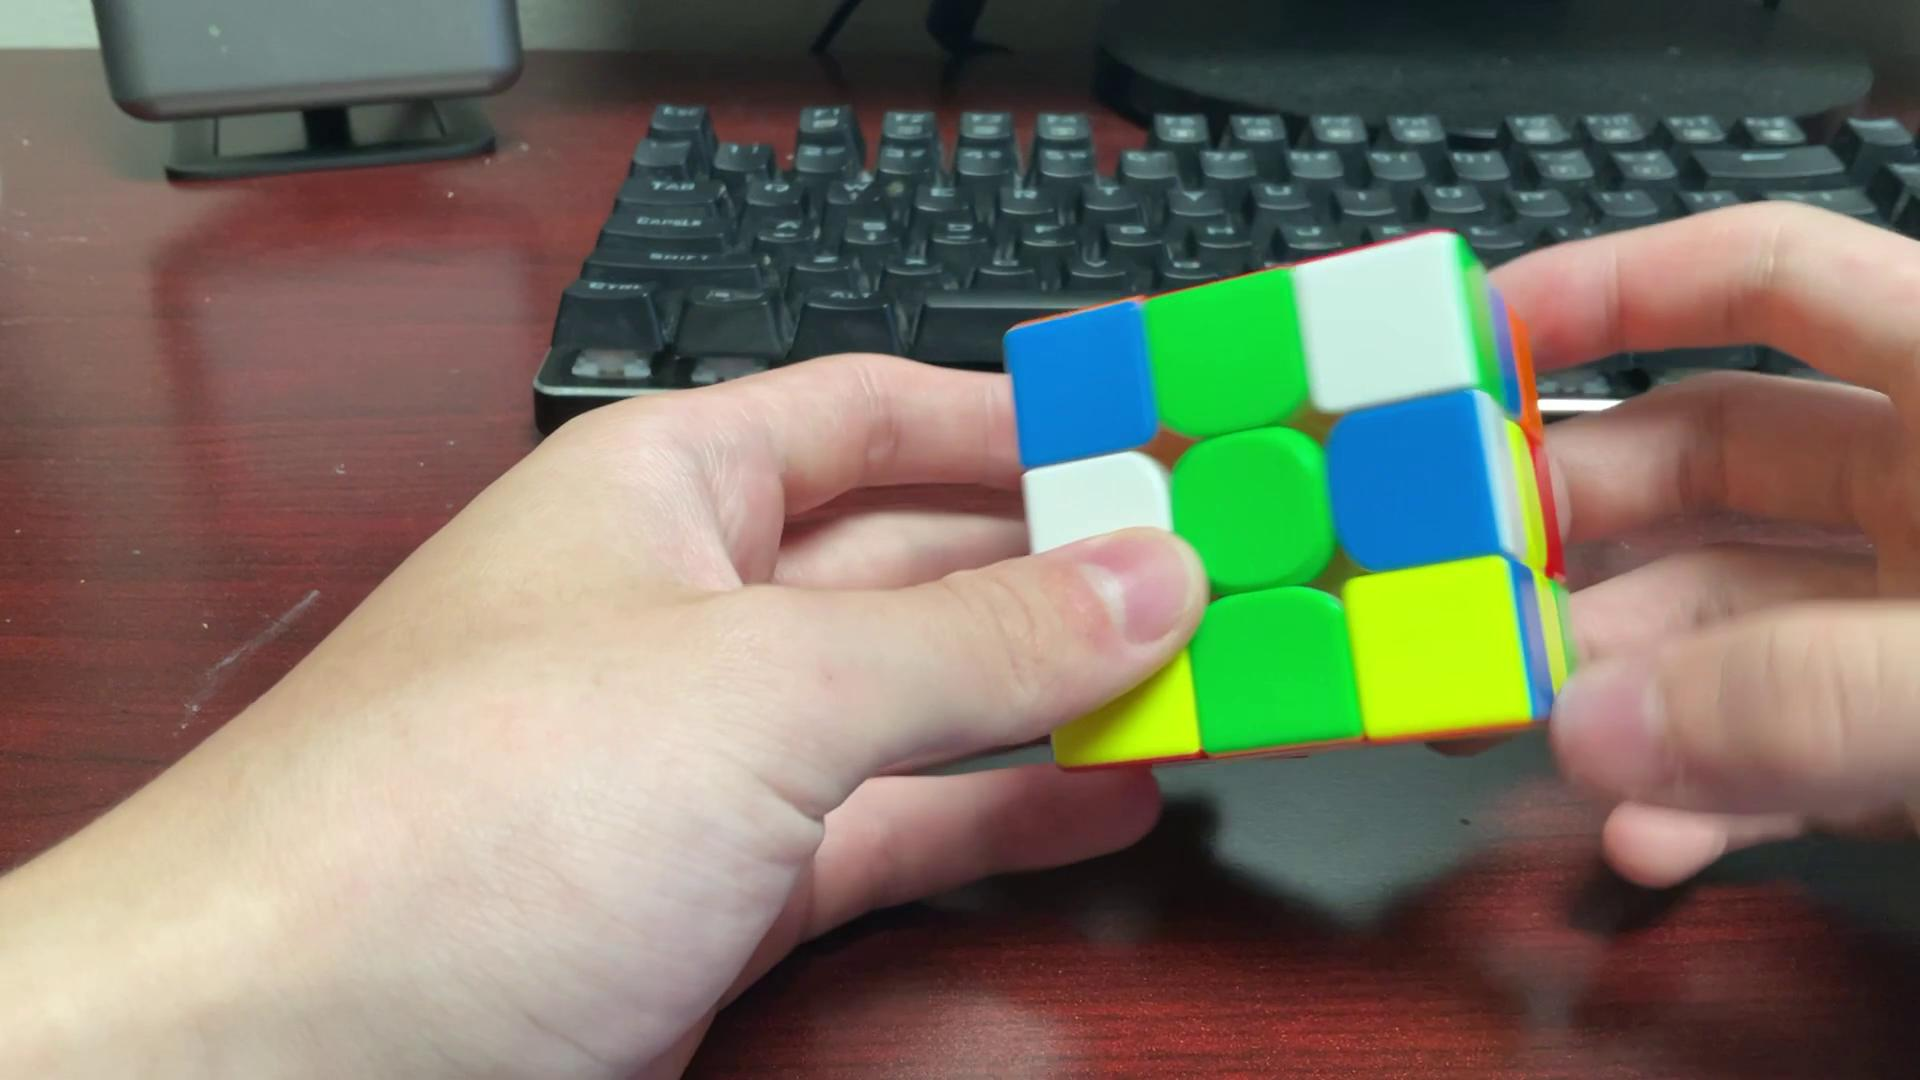Rubiks-Cube: (998, 219, 1601, 774)
